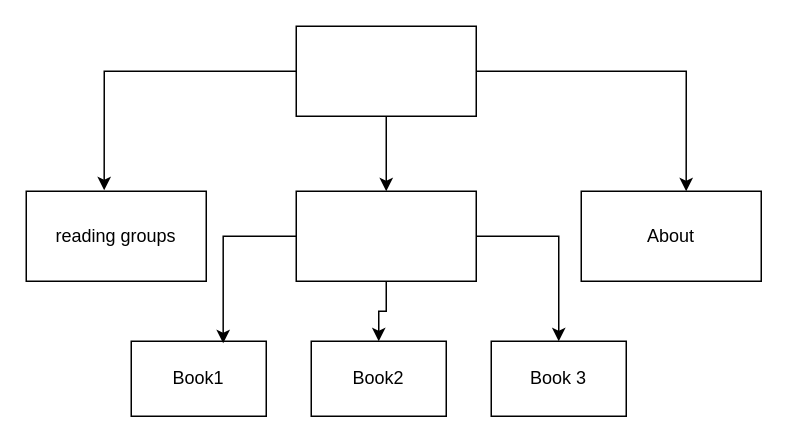
Image size: 788x443. Some labels were removed from this diagram. The shapes that lost their labels are listed below. From the top down, each one's box as (x1, y1, x2, y2) in pixels, then its label:
(295, 25, 476, 116): home
(295, 190, 476, 281): book
